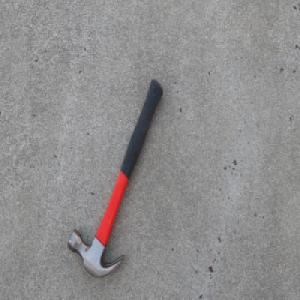Hammer: (67, 78, 163, 278)
